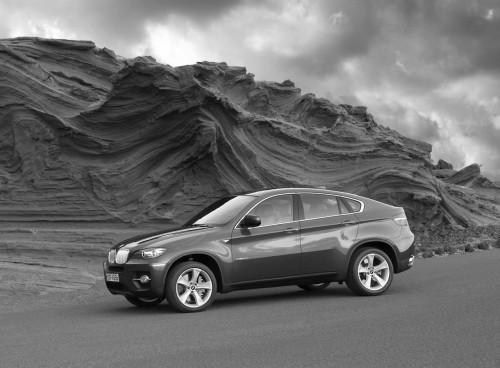car: (100, 187, 419, 316)
